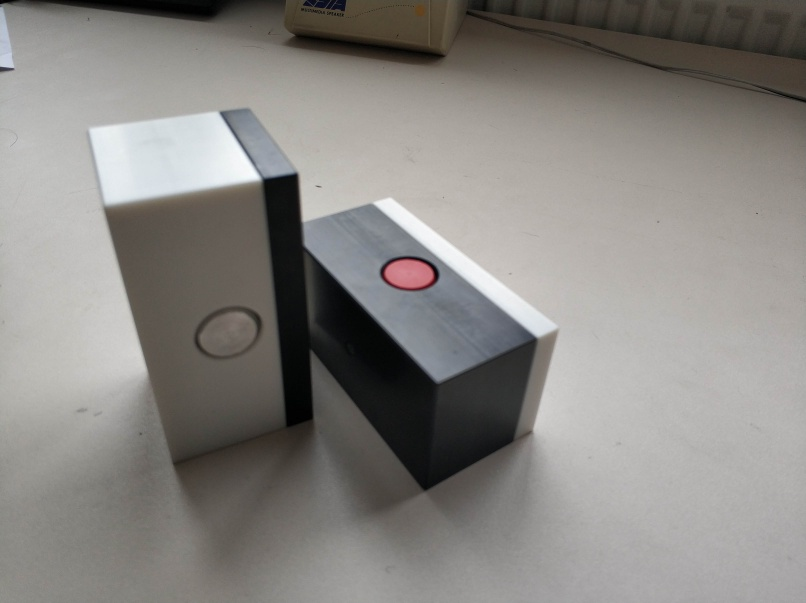black+white+silver: (84, 108, 319, 469)
white+black+red: (300, 193, 560, 494)
